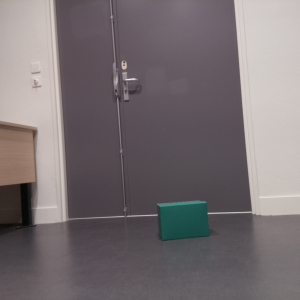small: (157, 199, 212, 241)
